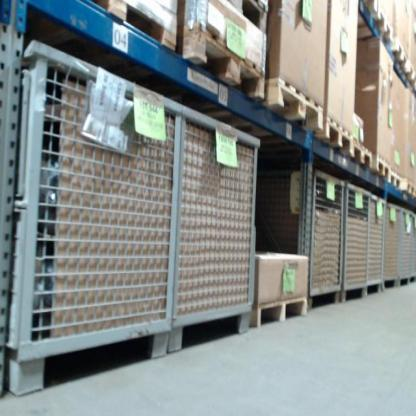pallets: (82, 0, 267, 109), (258, 76, 415, 199), (248, 295, 308, 328)
